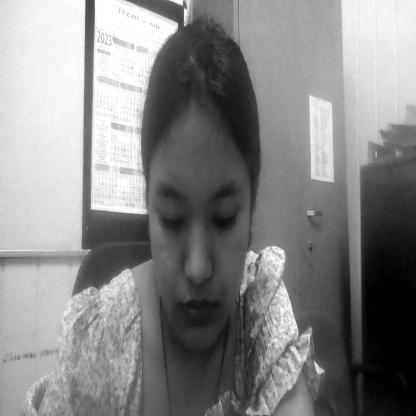Normal: (150, 105, 246, 340)
